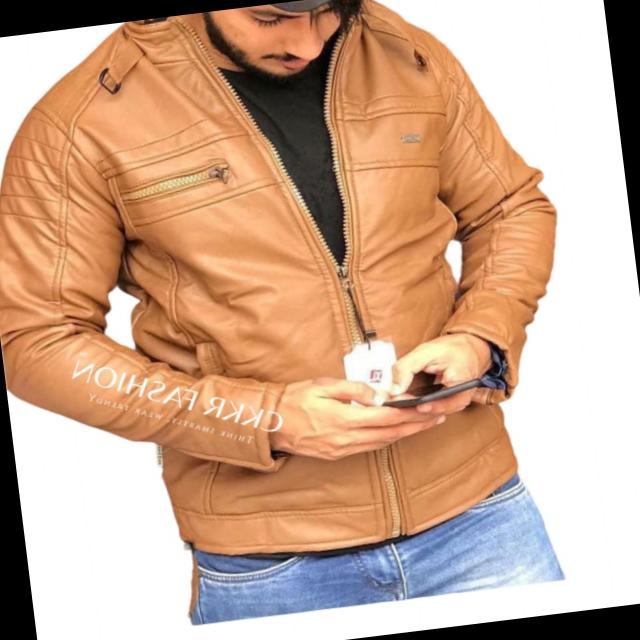Jacket: (0, 0, 596, 594)
